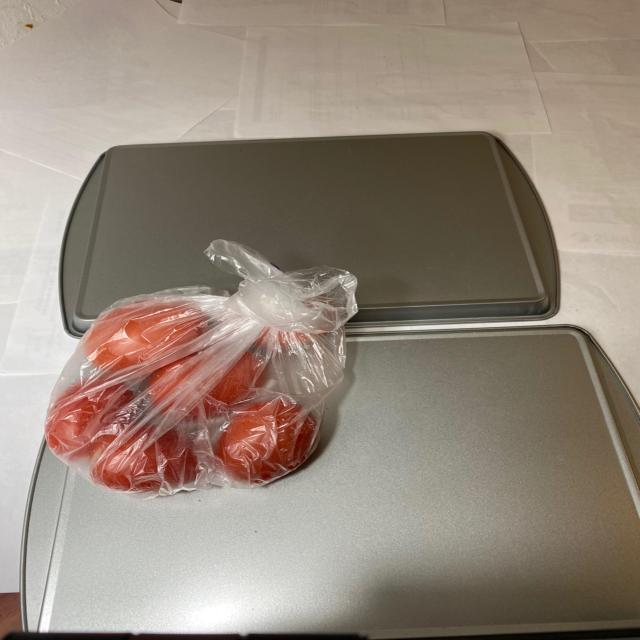tomato: (40, 287, 349, 494)
